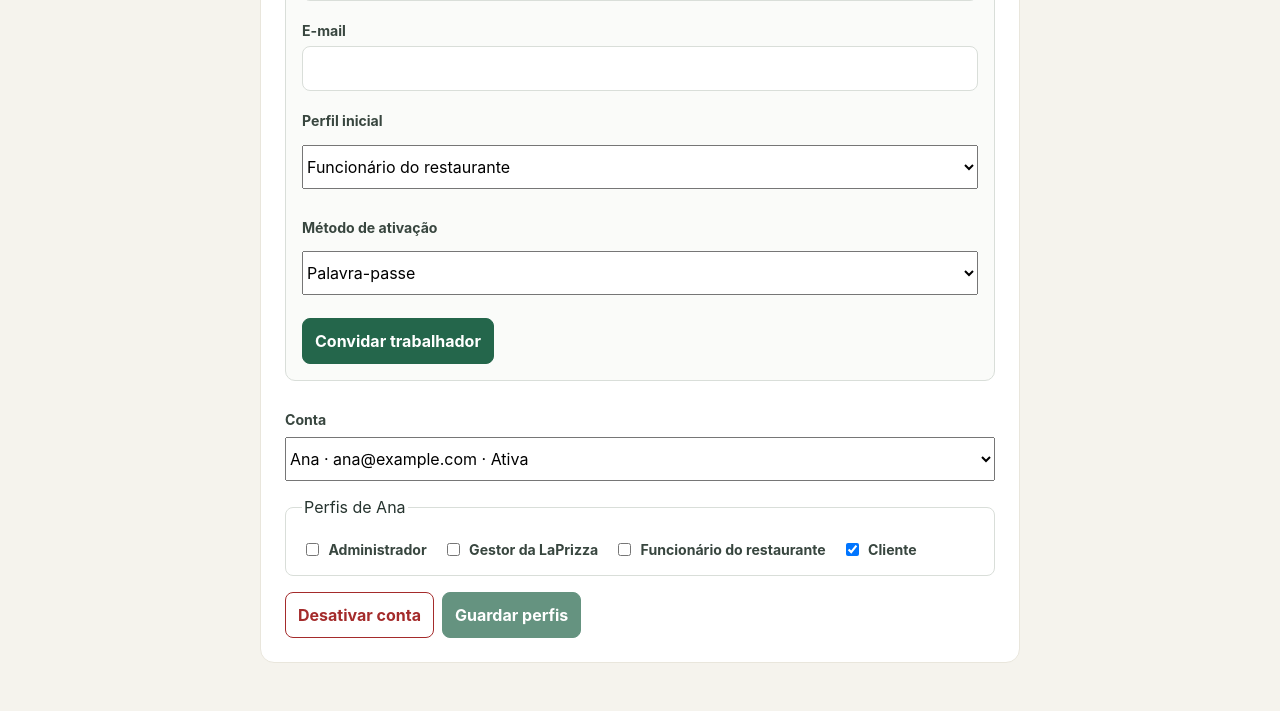
Test case: updates the displayed account and actions when read-back confirms deactivation
The image size is (1280, 711).
(page scrolled)
Click the button "Desativar conta" at [360, 616], box [285, 592, 434, 638]
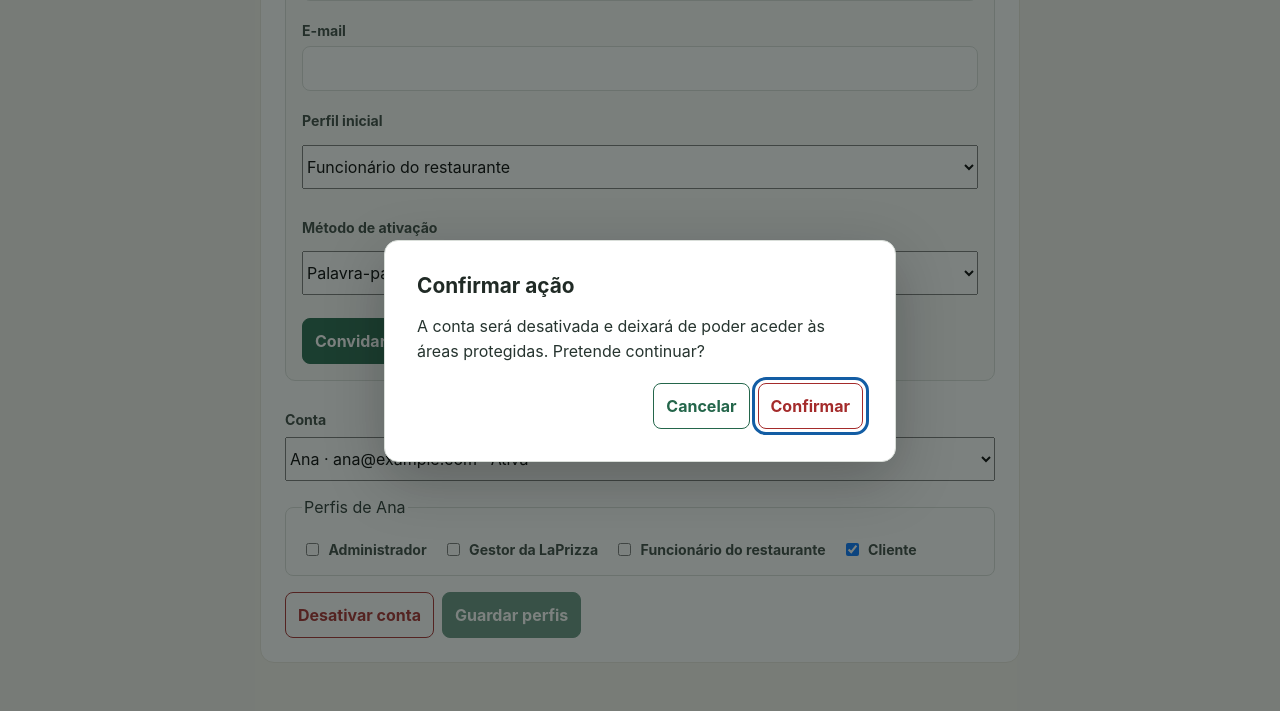
Click the button with class "button--danger" showing "Confirmar" at [810, 406], box [758, 383, 863, 429]
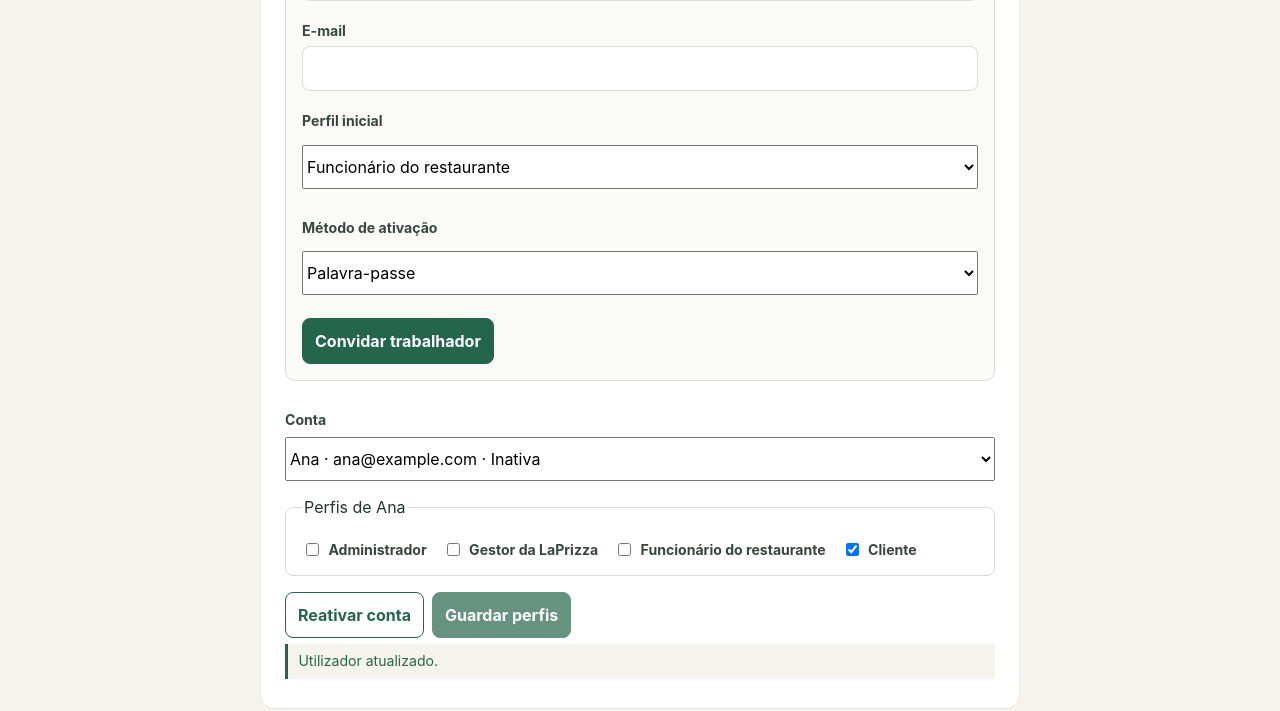
expect the text "Desativar conta" is gone: met
expect the text "Utilizador atualizado." is shown: met, box [285, 644, 995, 679]
